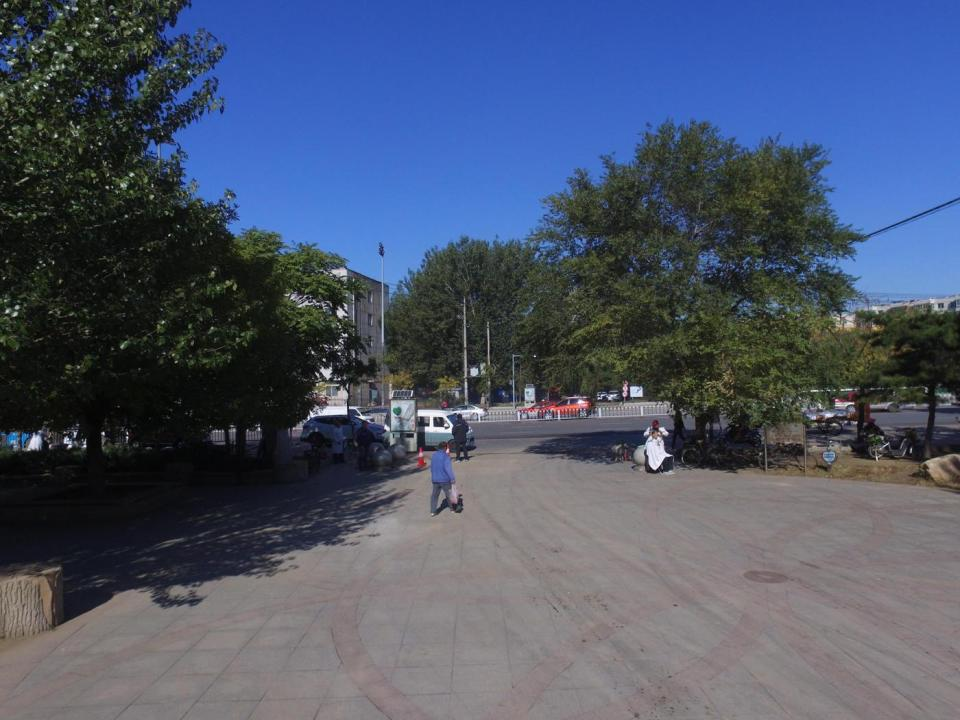car: (119, 411, 219, 459), (300, 411, 386, 448), (828, 389, 909, 415), (513, 399, 562, 424), (539, 398, 599, 418), (444, 404, 492, 422), (607, 389, 624, 403), (595, 389, 608, 400)
truck: (300, 404, 376, 432)
van: (382, 405, 476, 454)
